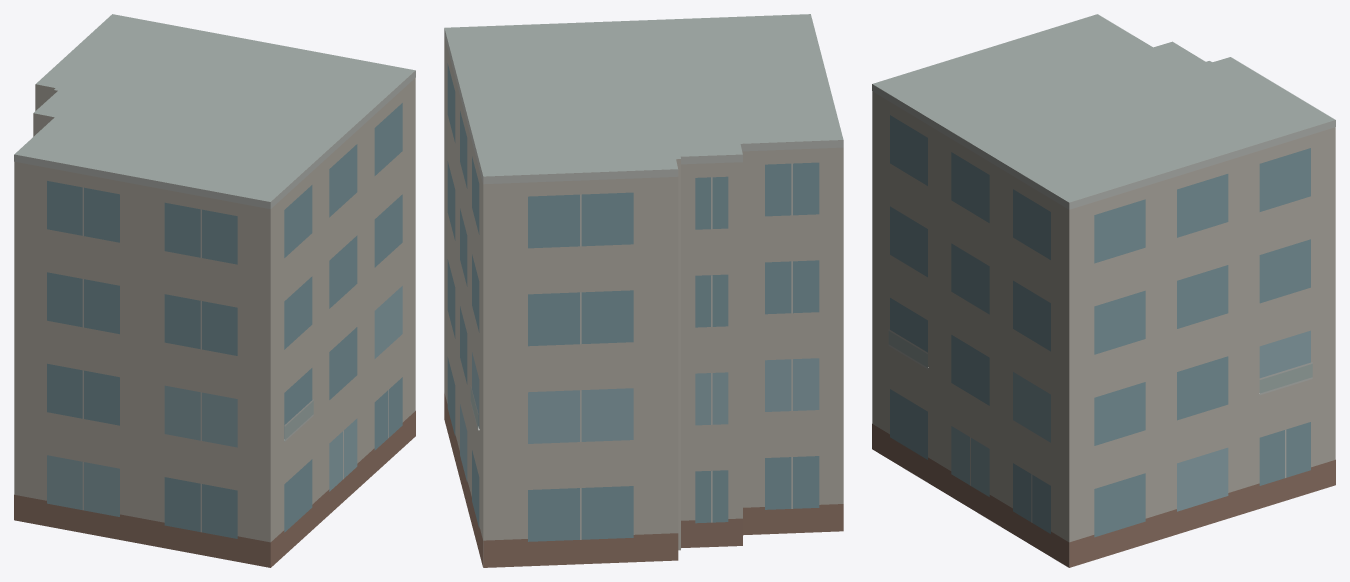
The model's file is survey-upis-32688019.glb.
3 views of the same model, side by side, from view 1: azimuth 30°, elevation 25°; view 2: azimuth 150°, elevation 25°; view 3: azimuth 270°, elevation 25° (orthographic). The views are drawn at different scales.
Parts seen in each view (by area): view 1: survey-upis-32688019.tmp; view 2: survey-upis-32688019.tmp; view 3: survey-upis-32688019.tmp.
Boxes of the visible parts, left/top/right/bottom form: survey-upis-32688019.tmp: left=14, top=14, right=415, bottom=567; survey-upis-32688019.tmp: left=444, top=14, right=843, bottom=567; survey-upis-32688019.tmp: left=872, top=14, right=1335, bottom=567.
Bounding box in the file's own units: 13.86 × 12.5 × 14.39.
